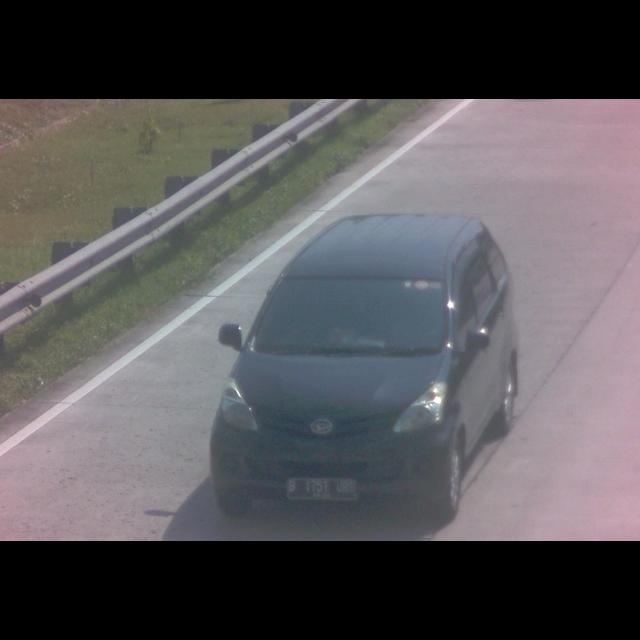plate: (286, 478, 358, 502)
